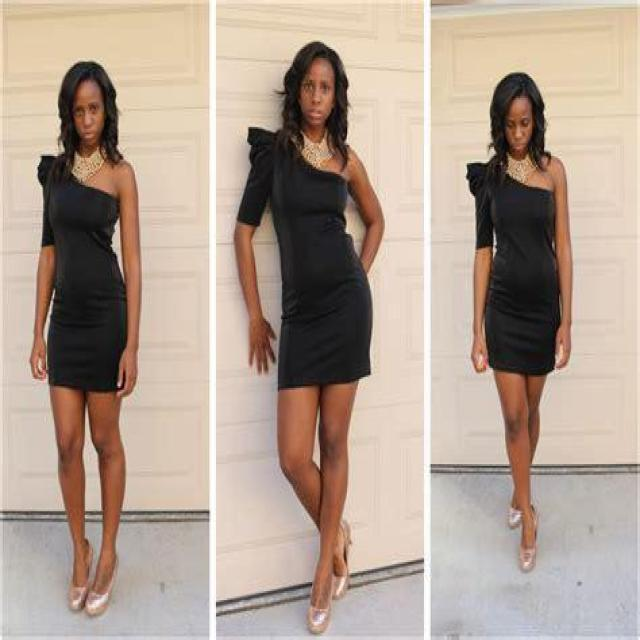dress: (234, 125, 372, 390), (37, 152, 128, 392), (464, 156, 562, 375)
